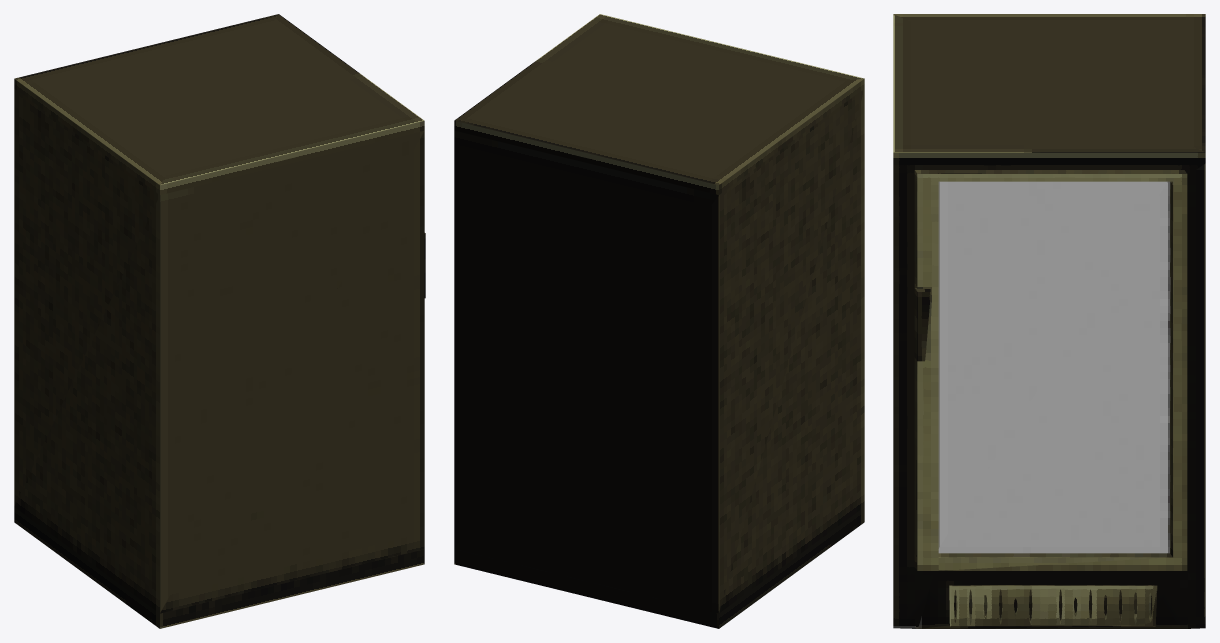
Rendered from milk_fridge.glb.
3 views of the same model, side by side, from view 1: azimuth 30°, elevation 25°; view 2: azimuth 150°, elevation 25°; view 3: azimuth 270°, elevation 25° (orthographic). The views are drawn at different scales.
Visible parts, largest first — view 1: mesh; view 2: mesh; view 3: mesh.
Part boxes in pixels (box(x1,y1,x2,y2)): mesh: box(14, 14, 425, 628); mesh: box(454, 14, 864, 628); mesh: box(893, 14, 1205, 628).
Size of the model in its own units: 1.22 by 1.86 by 1.11.
Materials: 1 (1 with a texture image).
